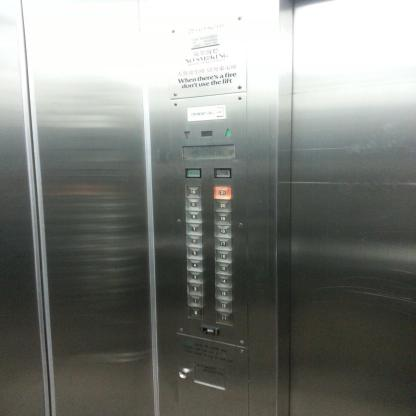1: (187, 293, 203, 308)
10: (184, 184, 202, 200)
11: (214, 309, 233, 326)
12: (214, 298, 233, 314)
13: (214, 285, 232, 301)
14: (214, 273, 232, 288)
15: (214, 260, 232, 276)
16: (214, 249, 232, 264)
17: (214, 236, 232, 252)
18: (214, 223, 232, 240)
19: (213, 210, 232, 226)
2: (186, 282, 204, 296)
20: (213, 198, 232, 214)
21: (213, 184, 231, 200)
3: (186, 270, 204, 284)
4: (186, 258, 203, 272)
5: (186, 246, 202, 260)
6: (185, 234, 202, 249)
7: (185, 222, 202, 236)
8: (185, 209, 202, 224)
9: (185, 197, 202, 212)
G: (187, 306, 203, 320)
text_close door: (213, 167, 232, 179)
text_open door: (185, 167, 201, 178)
